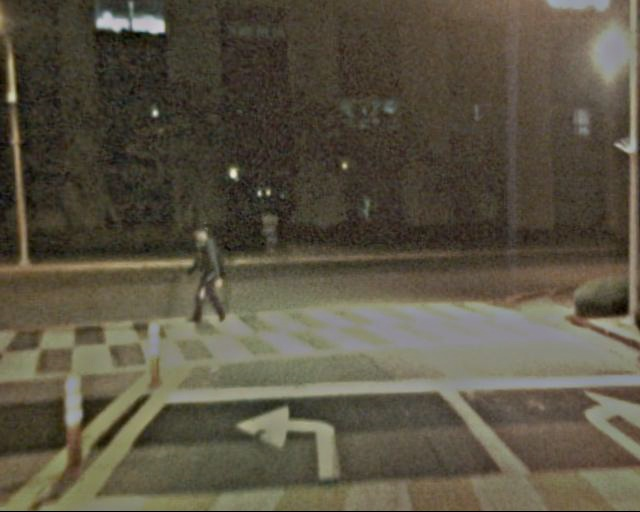person: (186, 217, 232, 328)
